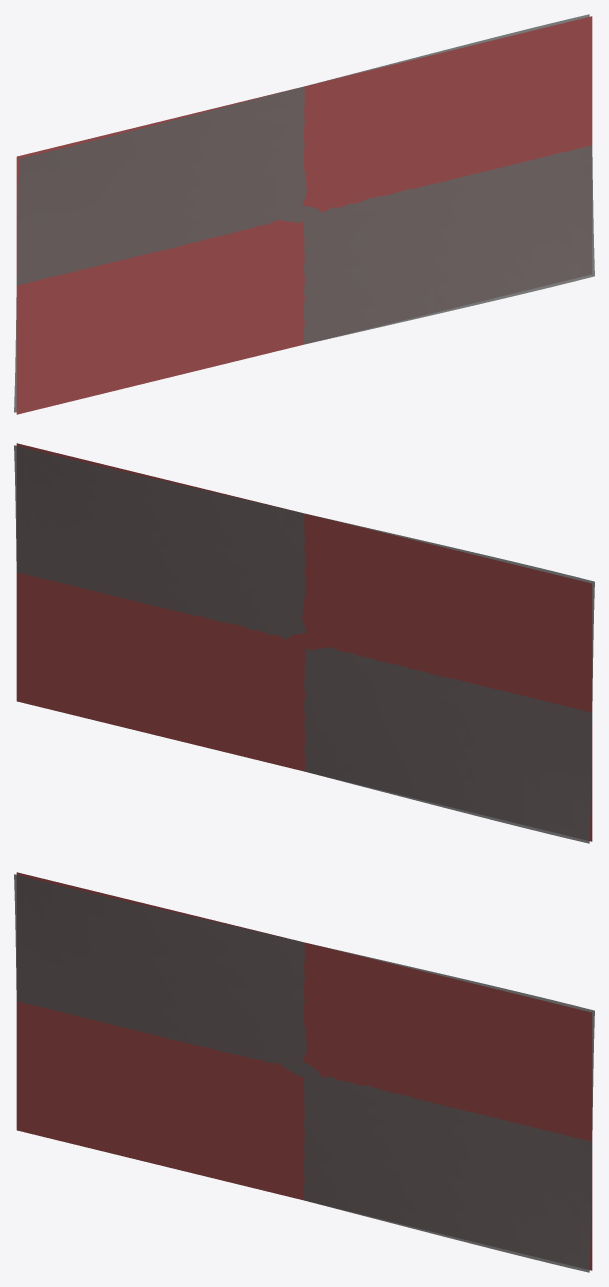
File: warping-rectangle-60-140-460.glb
3 renders of one model, top to bottom at view 1: azimuth 30°, elevation 25°; view 2: azimuth 150°, elevation 25°; view 3: azimuth 330°, elevation 25°, orthographic.
Parts seen in each view (by area): view 1: undeformed cross-section, cross-section with warping; view 2: undeformed cross-section, cross-section with warping; view 3: undeformed cross-section, cross-section with warping.
Boxes of the visible parts, bbox=[...] form: undeformed cross-section: bbox=[16, 16, 592, 414]; cross-section with warping: bbox=[14, 14, 594, 412]; undeformed cross-section: bbox=[16, 443, 592, 841]; cross-section with warping: bbox=[14, 445, 594, 843]; undeformed cross-section: bbox=[16, 872, 592, 1270]; cross-section with warping: bbox=[14, 874, 594, 1272].
Bounding box in the file's own units: 0.14 × 0.06 × 0.00249.
